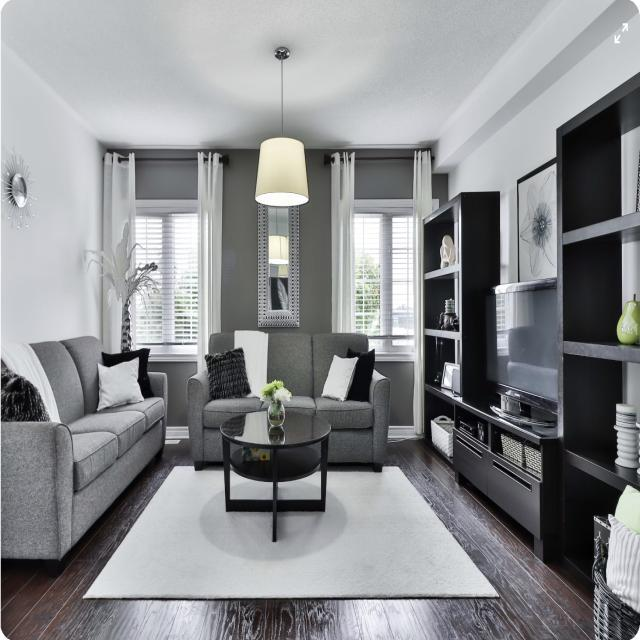lamp: (254, 46, 308, 209)
picture: (516, 159, 561, 284)
pillow: (204, 348, 253, 397), (94, 359, 146, 405), (327, 346, 355, 404), (346, 350, 376, 402)
potted plant: (95, 222, 143, 357), (264, 374, 293, 424)
sofa: (4, 325, 175, 585), (186, 325, 398, 475)
table: (222, 408, 334, 540)
television: (483, 279, 560, 422)
